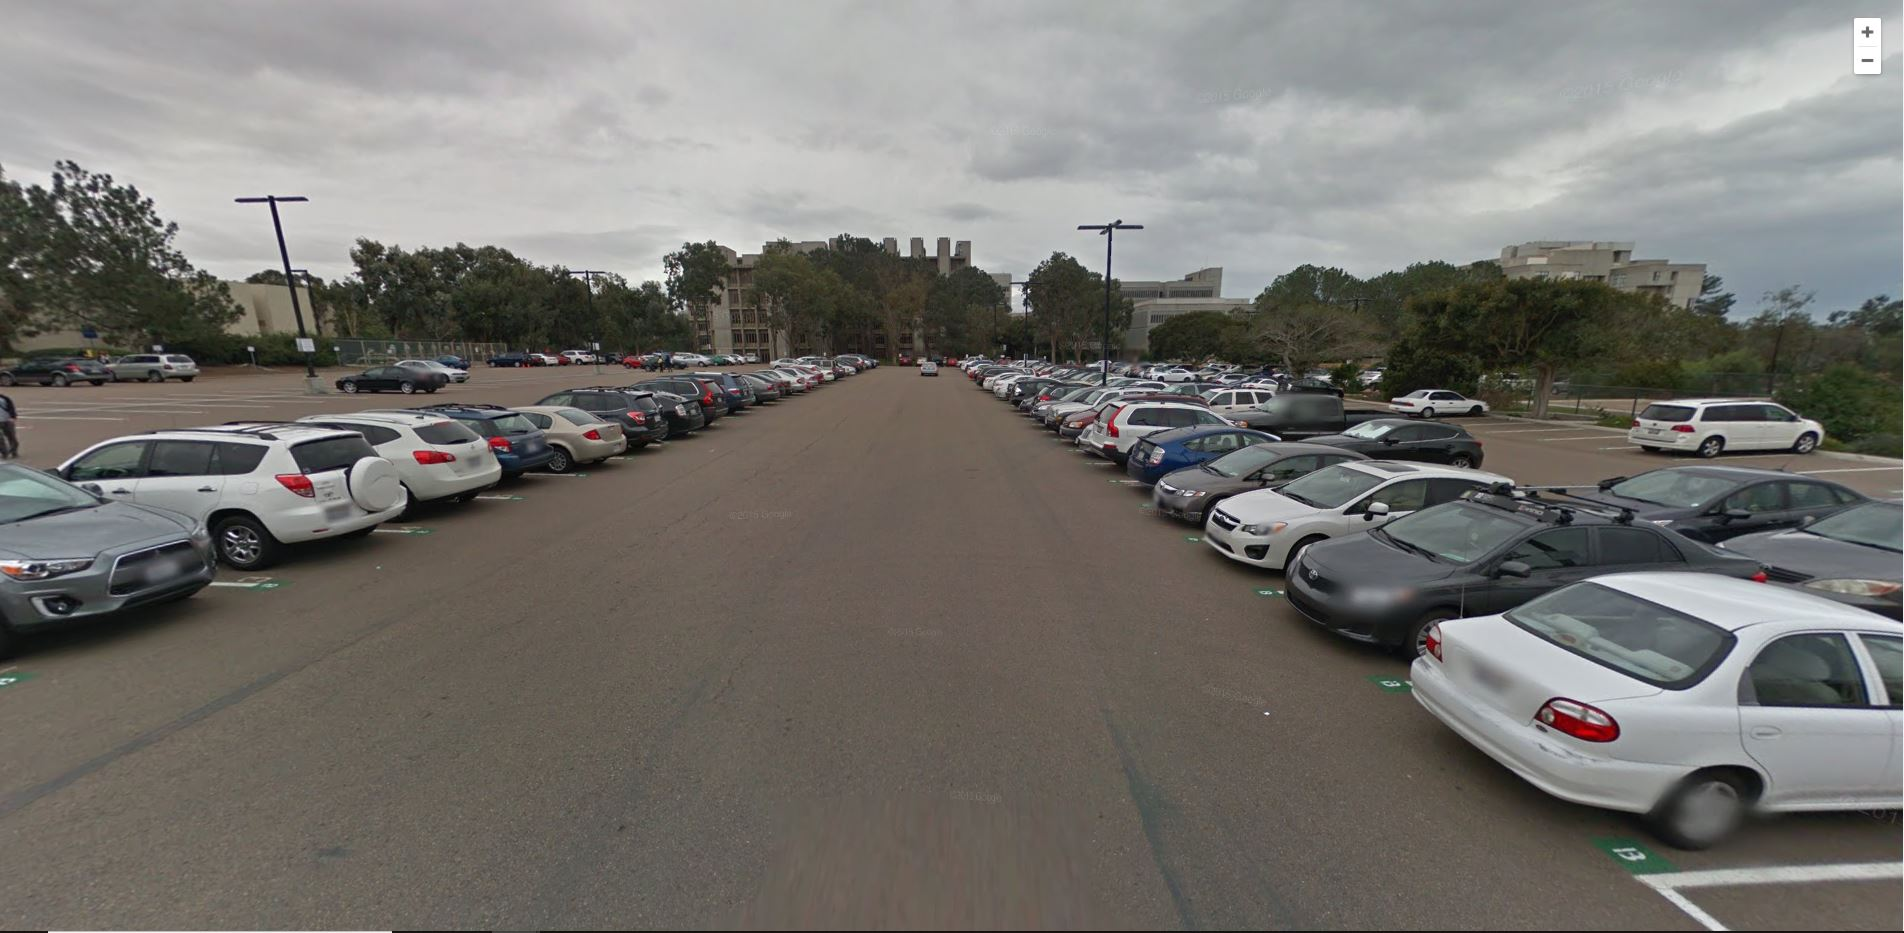car: (1385, 554, 1904, 831), (1279, 494, 1766, 692), (46, 415, 413, 562), (1203, 448, 1548, 579), (1, 449, 227, 637), (1555, 446, 1881, 541), (295, 411, 506, 516), (1141, 439, 1379, 528), (1627, 385, 1827, 456), (1294, 409, 1487, 476), (412, 405, 552, 481), (1086, 398, 1248, 458), (504, 397, 631, 466), (539, 388, 667, 451), (1120, 428, 1283, 475), (1225, 391, 1385, 434), (1061, 400, 1185, 451), (637, 377, 736, 429), (100, 340, 208, 383), (6, 347, 114, 388), (339, 358, 449, 397), (637, 389, 704, 440), (665, 368, 744, 411), (1382, 385, 1490, 415)
